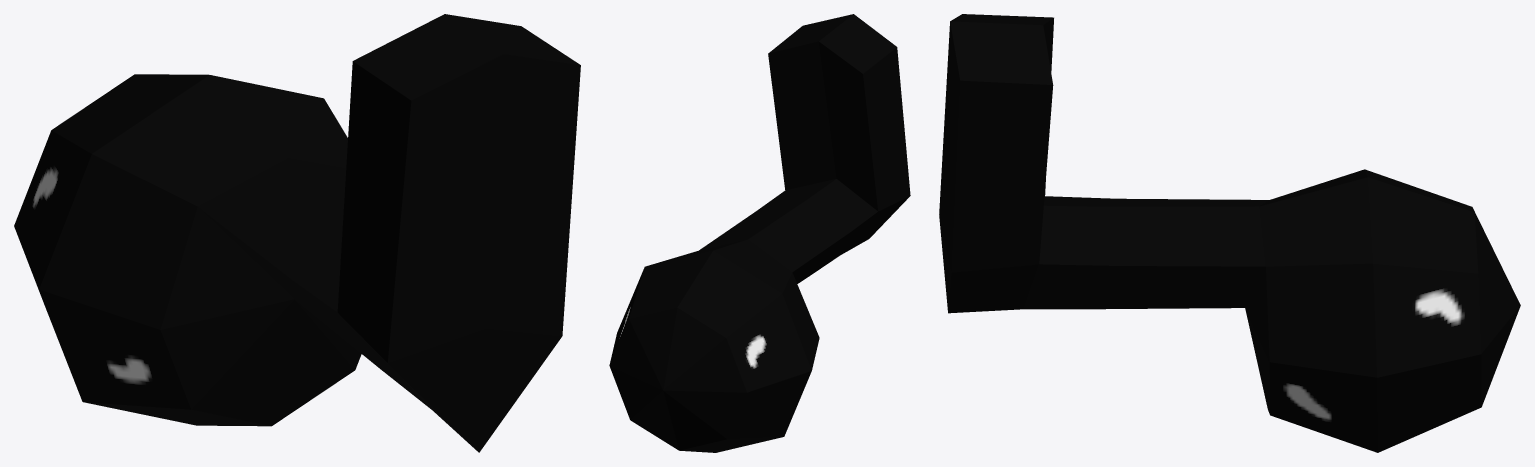
Rendered from note.fbx.
3 views of the same model, side by side, from view 1: azimuth 30°, elevation 25°; view 2: azimuth 150°, elevation 25°; view 3: azimuth 270°, elevation 25° (orthographic). The views are drawn at different scales.
Parts seen in each view (by area): view 1: Sphere; view 2: Sphere; view 3: Sphere.
Part boxes in pixels (<box>): Sphere: <box>14,14,580,452</box>; Sphere: <box>609,14,910,452</box>; Sphere: <box>939,14,1520,452</box>.
Size of the model in its own units: 200 by 321 by 389.
Materials: 1 (1 with a texture image).
